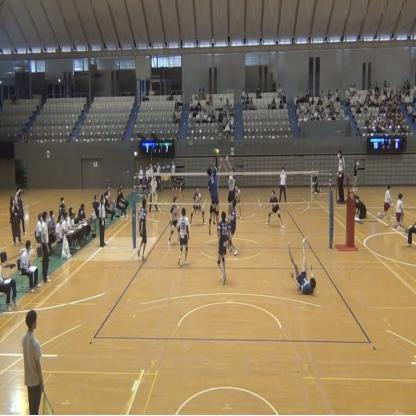spike: (205, 145, 223, 240)
